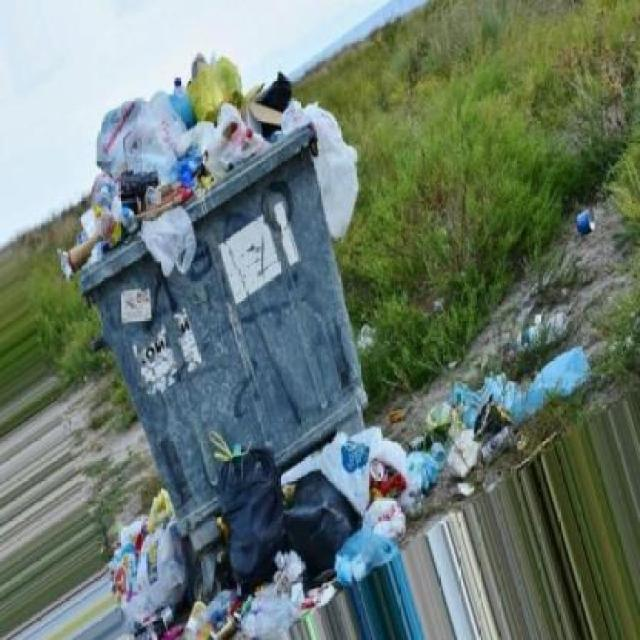garbage: (51, 43, 357, 248), (88, 463, 402, 628), (376, 371, 612, 488), (571, 203, 607, 234), (356, 320, 379, 349)
